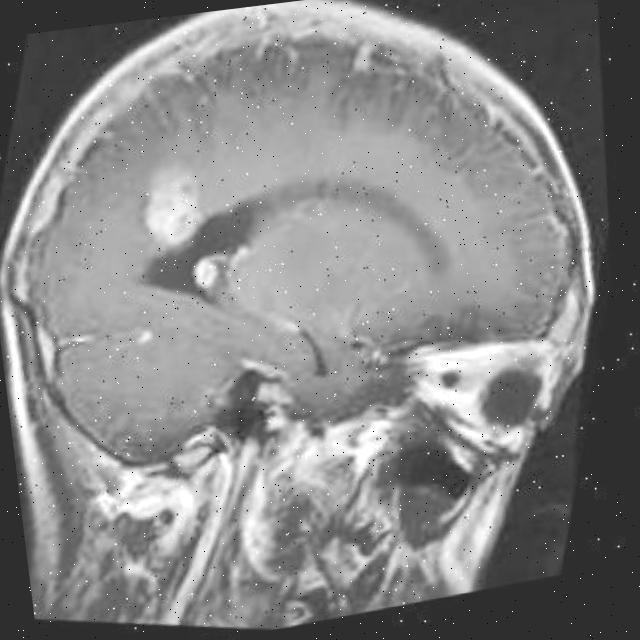CN: (100, 54, 256, 250)
